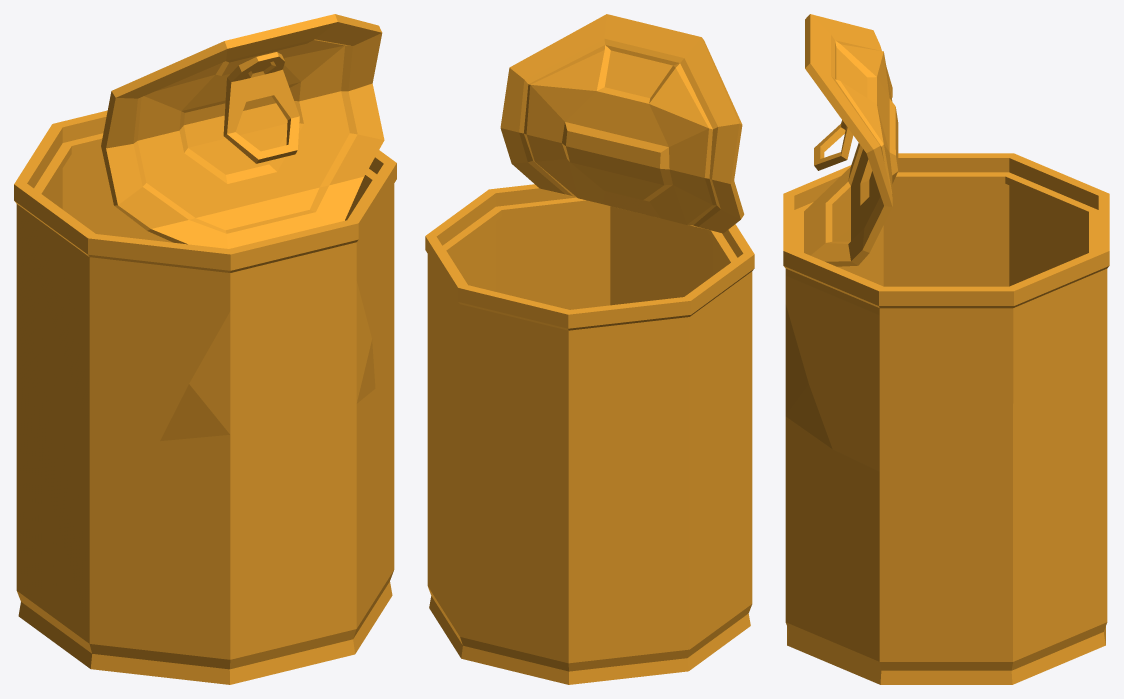
File: SM_Can_Catfood_Big_Empty.fbx
3 renders of one model, left to right at view 1: azimuth 30°, elevation 25°; view 2: azimuth 150°, elevation 25°; view 3: azimuth 270°, elevation 25°, orthographic. The views are drawn at different scales.
Visible parts, largest first — view 1: SM_Can_Catfood_Big_Empty; view 2: SM_Can_Catfood_Big_Empty; view 3: SM_Can_Catfood_Big_Empty.
Part boxes in pixels (bbox=[...]): SM_Can_Catfood_Big_Empty: bbox=[14, 14, 396, 684]; SM_Can_Catfood_Big_Empty: bbox=[425, 14, 754, 684]; SM_Can_Catfood_Big_Empty: bbox=[783, 14, 1109, 684].
Size of the model in its own units: 0.0823 by 0.1611 by 0.0823.
